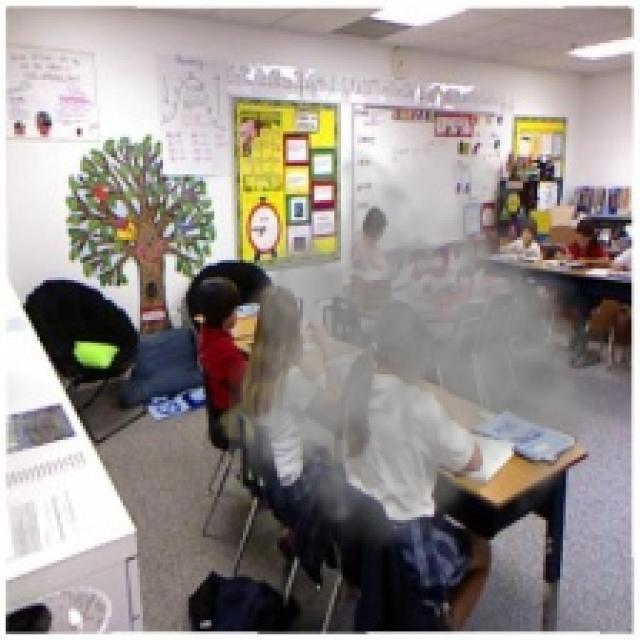Smoke: (228, 142, 623, 558)
